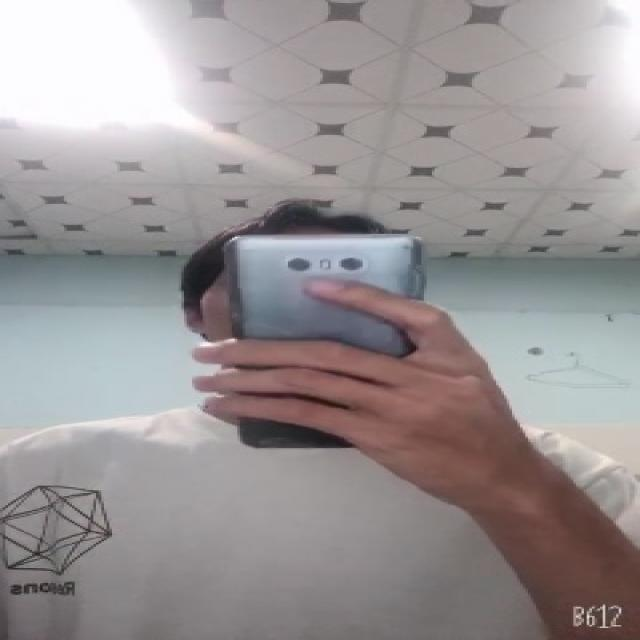Phone: (227, 235, 426, 454)
